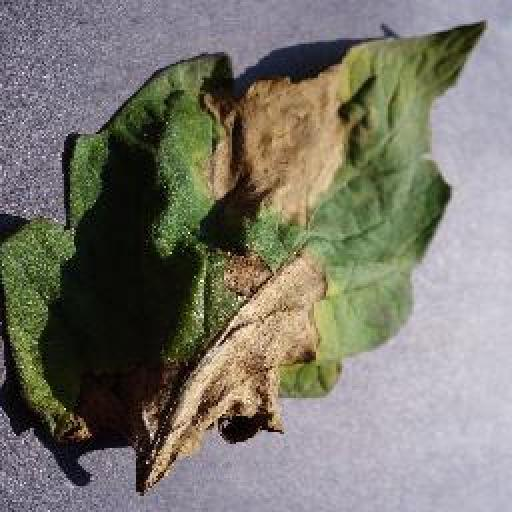Late Blight: (0, 19, 488, 484)
